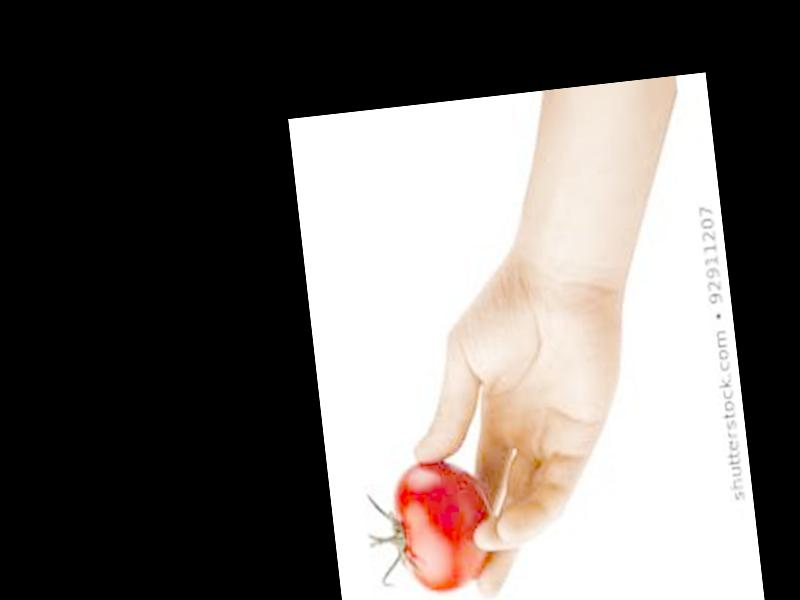Tomato: (389, 454, 500, 598)
